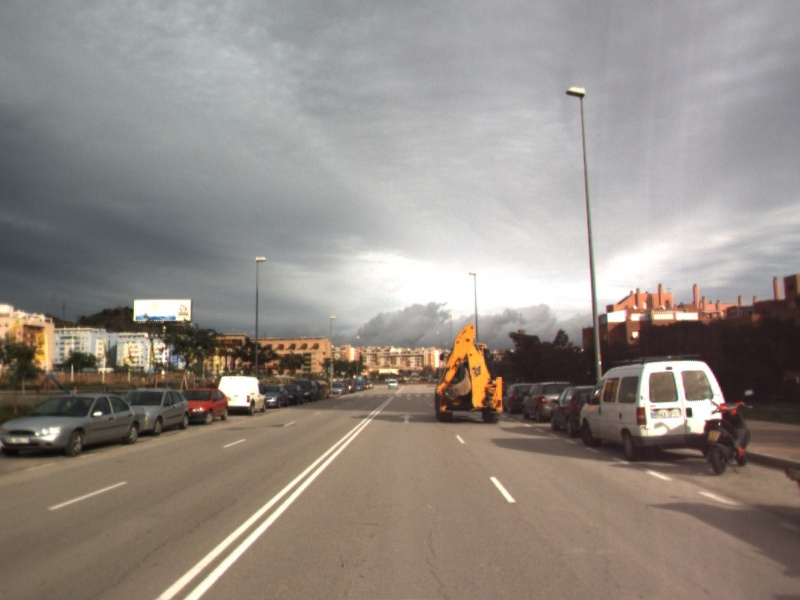STRAIGHT: (397, 412, 417, 425)
